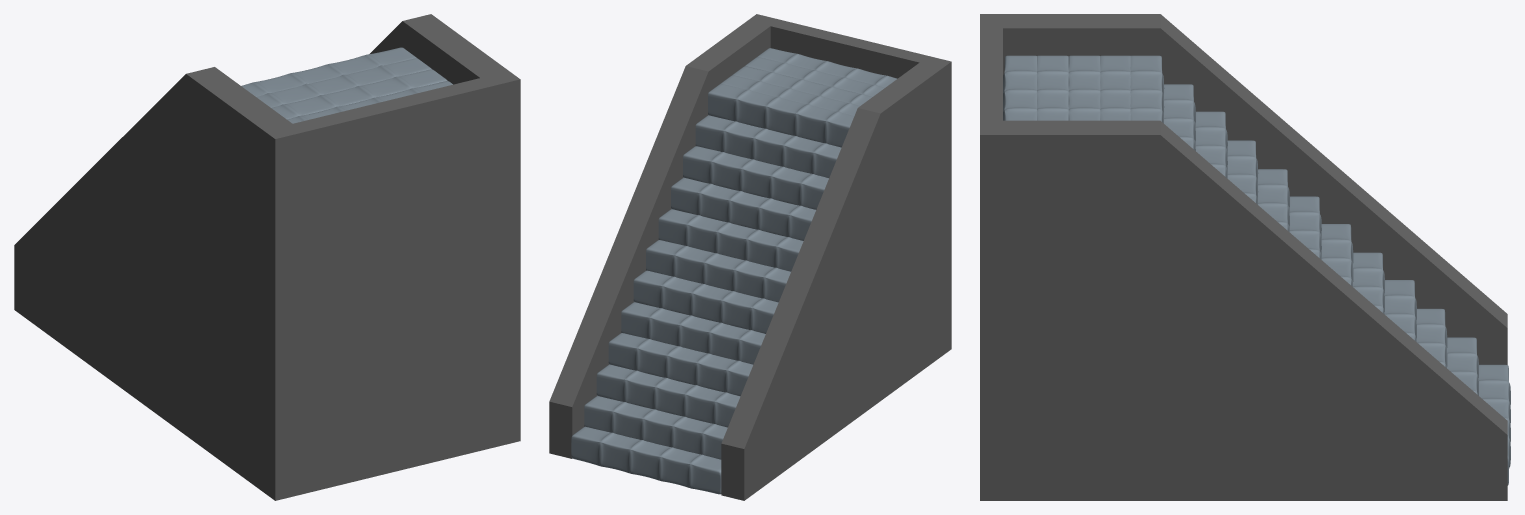
File: Stair.fbx
3 renders of one model, left to right at view 1: azimuth 30°, elevation 25°; view 2: azimuth 150°, elevation 25°; view 3: azimuth 270°, elevation 25°, orthographic. The views are drawn at different scales.
Visible parts, largest first — view 1: Cube.074, Cube.075; view 2: Cube.074, Cube.075, Cube.012, Cube.072, Cube.016, Cube.036, Cube.069, Cube.073, Cube.015, Cube.054, Cube.013, Cube.068 (+1 smaller); view 3: Cube.074, Cube.075, Cube.072, Cube.073, Cube.012, Cube.054, Cube.036, Cube.069, Cube.068, Cube.017, Cube.016, Cube.015 (+1 smaller).
Part boxes in pixels (<box>): Cube.074: <box>14,14,520,500</box>; Cube.075: <box>241,47,452,123</box>; Cube.074: <box>549,14,951,500</box>; Cube.075: <box>708,48,897,147</box>; Cube.012: <box>571,426,721,494</box>; Cube.072: <box>683,146,828,209</box>; Cube.016: <box>608,333,752,396</box>; Cube.036: <box>633,270,778,333</box>; Cube.069: <box>671,177,815,240</box>; Cube.073: <box>695,115,841,177</box>; Cube.015: <box>596,364,740,427</box>; Cube.054: <box>646,240,790,302</box>; Cube.013: <box>584,396,727,459</box>; Cube.068: <box>658,209,803,271</box>; Cube.074: <box>980,14,1507,500</box>; Cube.075: <box>1003,55,1164,123</box>; Cube.072: <box>1195,111,1227,178</box>; Cube.073: <box>1164,84,1195,150</box>; Cube.012: <box>1478,364,1510,485</box>; Cube.054: <box>1289,196,1321,259</box>; Cube.036: <box>1321,224,1353,286</box>; Cube.069: <box>1227,140,1258,204</box>; Cube.068: <box>1258,169,1289,231</box>; Cube.017: <box>1353,252,1384,313</box>; Cube.016: <box>1384,280,1416,341</box>; Cube.015: <box>1416,308,1447,367</box>.
Size of the model in its own units: 1702 by 2412 by 3156.
